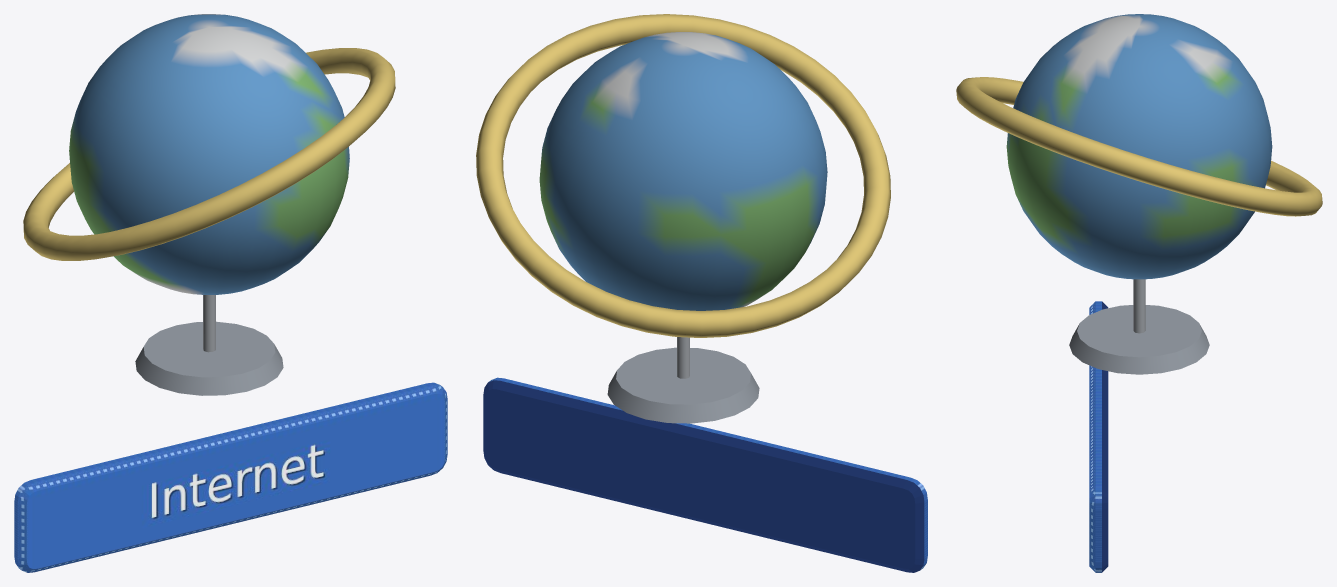
File: icon-internet.glb
3 renders of one model, left to right at view 1: azimuth 30°, elevation 25°; view 2: azimuth 150°, elevation 25°; view 3: azimuth 270°, elevation 25°, orthographic. The views are drawn at different scales.
Parts seen in each view (by area): view 1: thing, label; view 2: thing, label; view 3: thing, label.
Boxes of the visible parts, x1=… form: thing: x1=23, y1=14, x2=395, y2=395; label: x1=14, y1=382, x2=447, y2=572; thing: x1=476, y1=14, x2=890, y2=423; label: x1=483, y1=377, x2=927, y2=572; thing: x1=956, y1=14, x2=1322, y2=374; label: x1=1089, y1=301, x2=1108, y2=572.
Bounding box in the file's own units: 0.3 × 0.32 × 0.2345.
2 materials, 1 textured.
